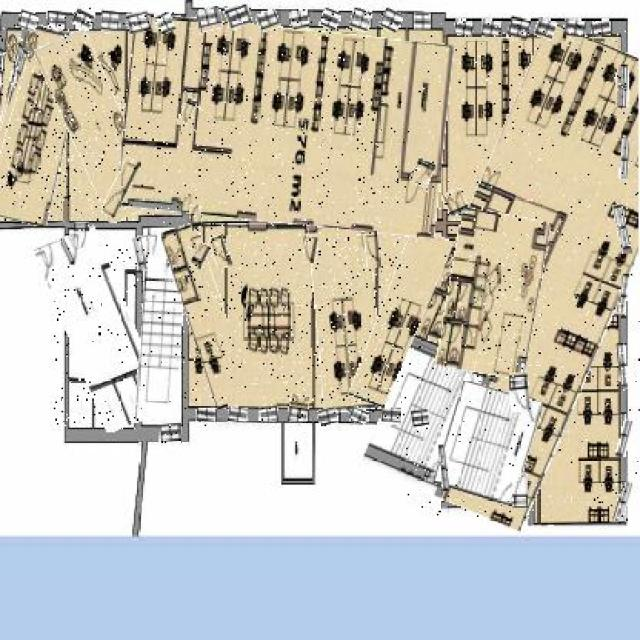door: (106, 158, 134, 220), (511, 372, 529, 412), (132, 237, 152, 271), (212, 235, 231, 268), (412, 160, 434, 188), (443, 190, 466, 216), (288, 396, 309, 422), (512, 474, 528, 508), (62, 237, 80, 265), (366, 230, 379, 268), (180, 97, 195, 126), (74, 222, 89, 248), (192, 245, 208, 269), (305, 237, 317, 263), (191, 204, 200, 230)
window: (0, 46, 17, 215), (615, 203, 631, 254), (224, 6, 250, 31), (615, 482, 631, 522), (508, 14, 530, 41), (197, 8, 220, 32), (160, 422, 182, 446), (617, 66, 629, 109), (618, 418, 631, 457), (563, 20, 586, 42), (617, 343, 628, 389), (351, 8, 372, 32), (380, 10, 402, 32), (535, 18, 557, 40), (128, 11, 149, 34), (257, 11, 280, 32), (618, 138, 630, 178), (72, 8, 94, 29), (102, 9, 120, 34), (320, 9, 340, 31), (617, 274, 628, 314), (440, 444, 449, 490), (318, 406, 338, 426), (155, 11, 174, 32), (290, 9, 308, 31), (18, 11, 37, 31), (455, 18, 474, 37), (412, 409, 430, 429), (197, 408, 215, 428), (382, 409, 400, 428), (482, 20, 502, 37), (592, 20, 611, 37), (46, 12, 66, 28), (414, 12, 431, 30), (351, 408, 369, 424), (260, 406, 278, 422), (228, 408, 248, 422)
zone: (403, 28, 640, 523), (122, 22, 450, 230), (52, 228, 151, 429), (52, 29, 142, 222), (363, 230, 457, 412), (442, 211, 544, 377), (0, 23, 77, 223), (228, 223, 310, 406), (312, 223, 380, 412), (174, 223, 238, 409), (440, 384, 535, 502), (138, 229, 184, 423)
